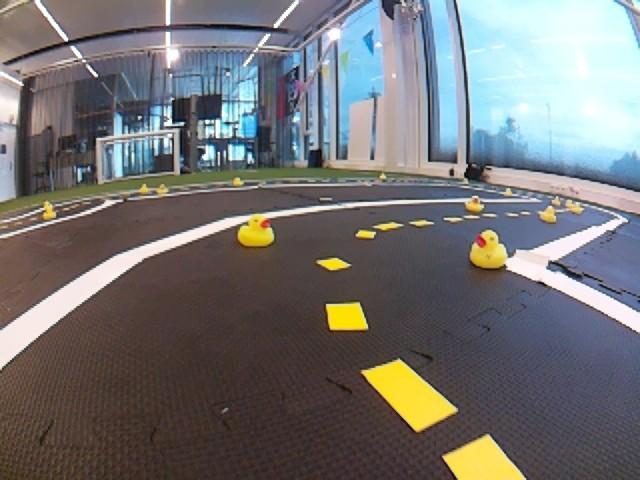Duckies: (469, 229, 508, 268), (237, 215, 274, 248), (539, 206, 557, 224), (464, 197, 484, 212), (43, 206, 56, 219), (572, 203, 582, 215), (137, 185, 149, 193), (156, 186, 167, 194), (233, 178, 244, 185), (567, 200, 575, 209), (505, 188, 512, 197), (552, 197, 558, 205), (380, 174, 387, 179)
